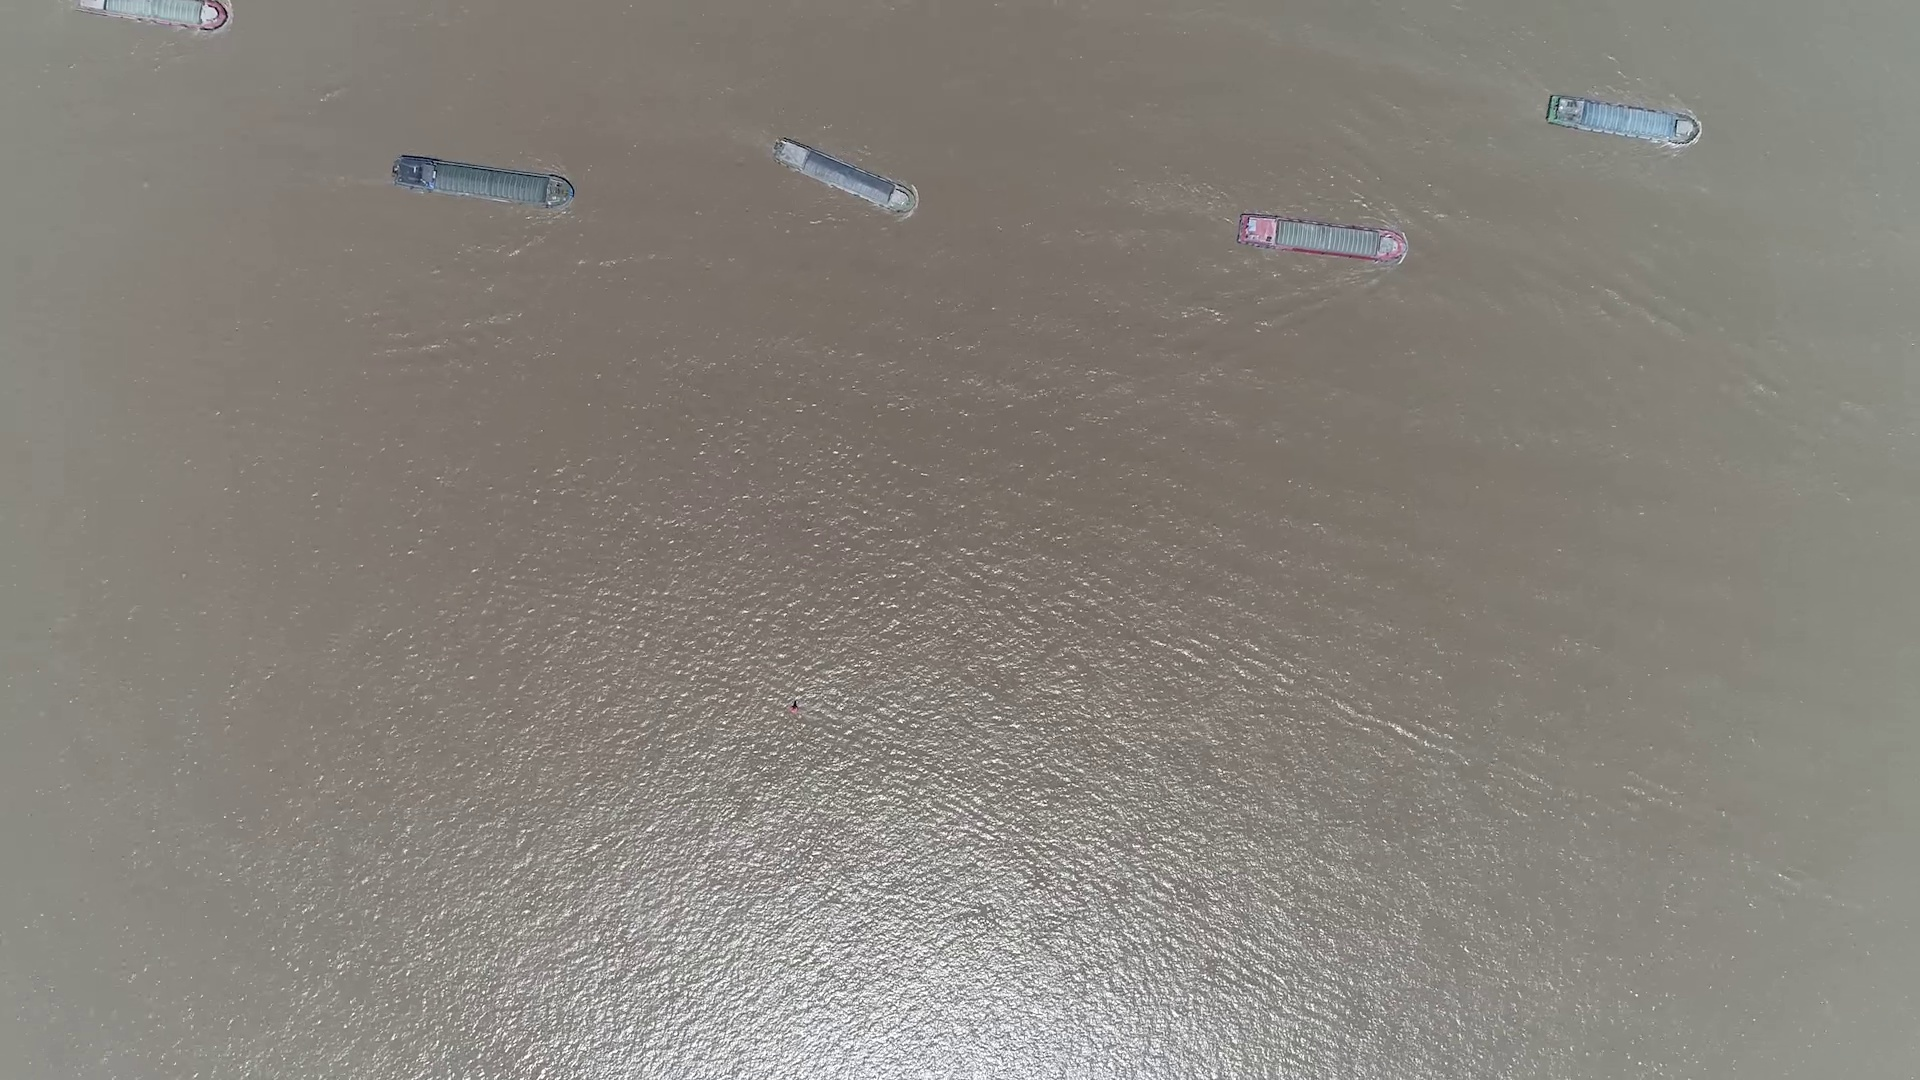ship: (770, 140, 916, 216), (390, 156, 574, 208), (1236, 215, 1407, 262), (1545, 99, 1697, 145), (76, 0, 229, 28)
